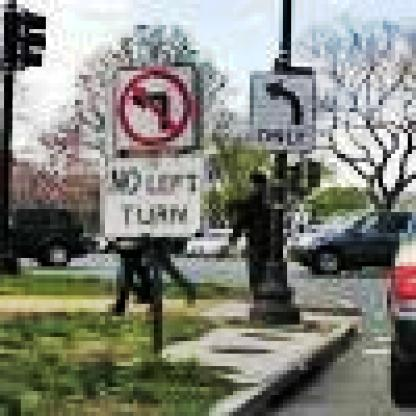No left turn: (112, 65, 203, 149)
